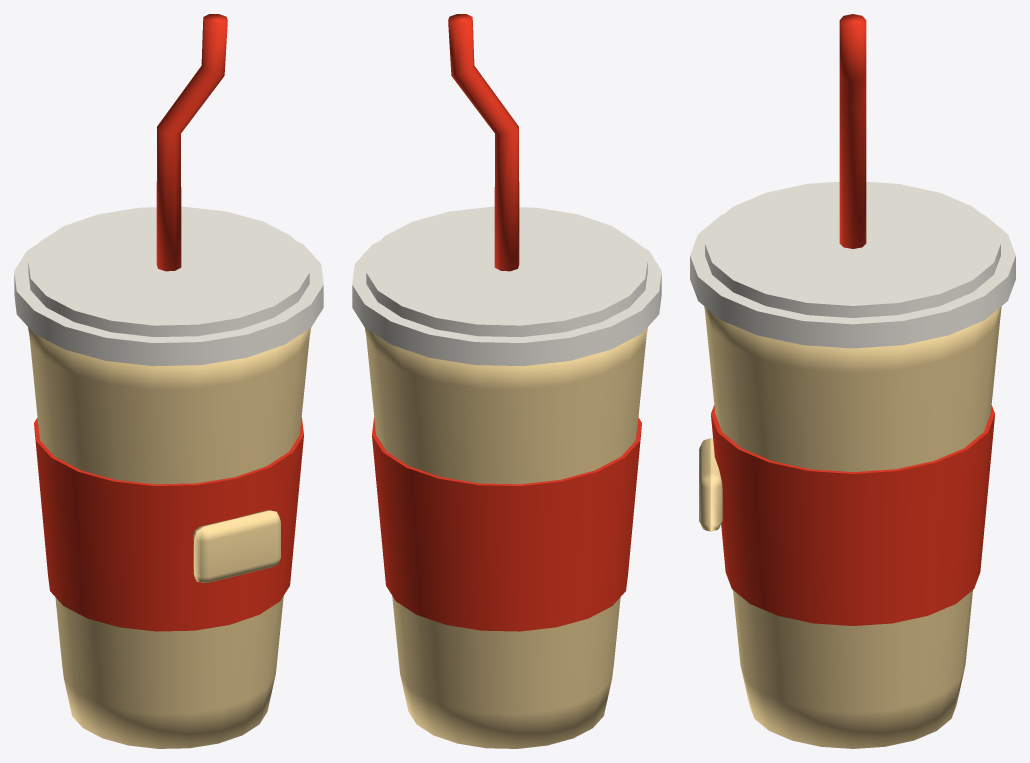
The model's file is 28_Soda_Cup.glb.
3 views of the same model, side by side, from view 1: azimuth 30°, elevation 25°; view 2: azimuth 150°, elevation 25°; view 3: azimuth 270°, elevation 25° (orthographic). The views are drawn at different scales.
Parts seen in each view (by area): view 1: 28_Soda_Cup_EXPORT; view 2: 28_Soda_Cup_EXPORT; view 3: 28_Soda_Cup_EXPORT.
Boxes of the visible parts, x1,y1,x2,y2 form: 28_Soda_Cup_EXPORT: (14,14,323,748); 28_Soda_Cup_EXPORT: (352,14,661,748); 28_Soda_Cup_EXPORT: (690,14,1015,748).
Bounding box in the file's own units: 0.22 × 0.5284 × 0.22.
